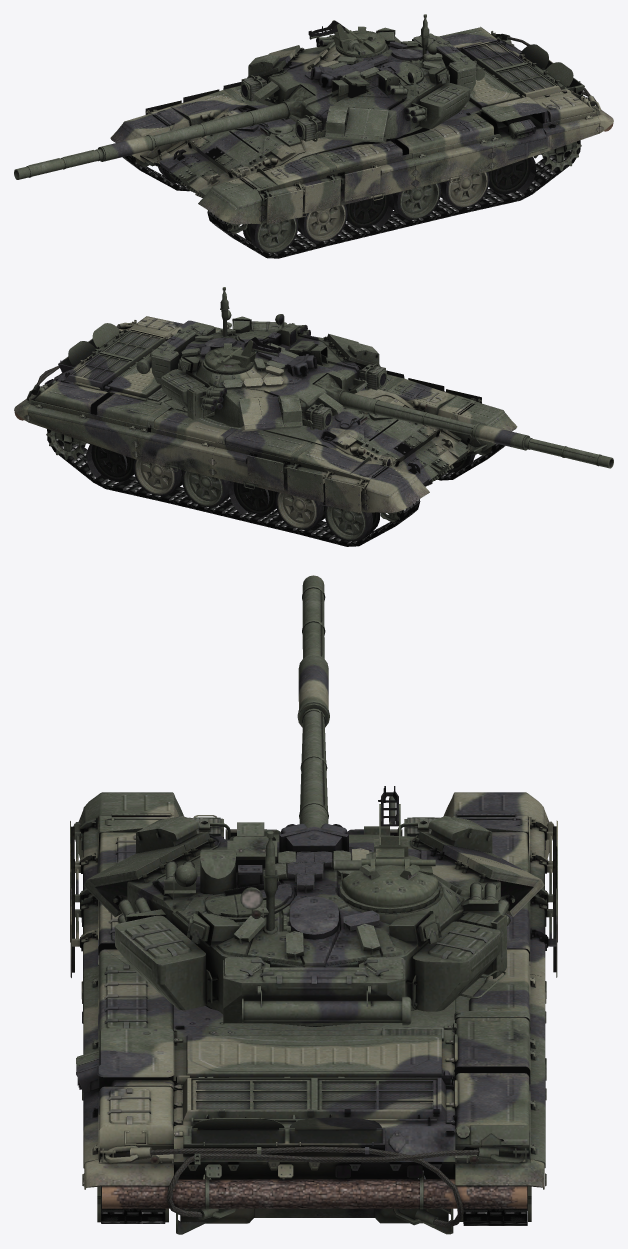
The picture shows the model from 3 angles, top to bottom: view 1: azimuth 30°, elevation 25°; view 2: azimuth 150°, elevation 25°; view 3: azimuth 270°, elevation 25°; orthographic projection. The views are drawn at different scales.
Visible parts, largest first — view 1: Hull, Turret Armor, Left Tracks, Barrel, Left RoadWheel_1, Left RoadWheel_2, Left RoadWheel_5, Left RoadWheel_4, Left RoadWheel_6, Left RoadWheel_3, Left Sprocket, Turret Mantlet (+2 smaller); view 2: Hull, Turret Armor, Right Tracks, Barrel, Right RoadWheel_1, Right RoadWheel_2, Right RoadWheel_5, Right RoadWheel_4, Right RoadWheel_6, Right RoadWheel_3, Right Sprocket, Left Tracks (+1 smaller); view 3: Hull, Turret Armor, Barrel, Spent Shell Exit Door, Right Tracks, Left Tracks.
Part boxes in pixels (x1,y1,x2,y2): Hull: (110, 26, 613, 224); Turret Armor: (240, 14, 485, 142); Left Tracks: (207, 140, 580, 258); Barrel: (14, 102, 288, 179); Left RoadWheel_1: (243, 201, 298, 253); Left RoadWheel_2: (297, 204, 347, 242); Left RoadWheel_5: (439, 171, 489, 208); Left RoadWheel_4: (392, 183, 440, 220); Left RoadWheel_6: (488, 145, 536, 197); Left RoadWheel_3: (345, 194, 394, 231); Left Sprocket: (533, 141, 581, 171); Turret Mantlet: (281, 85, 314, 119); Hull: (14, 316, 517, 513); Turret Armor: (136, 287, 386, 431); Right Tracks: (47, 429, 420, 546); Barrel: (339, 391, 613, 468); Right RoadWheel_1: (324, 490, 380, 541); Right RoadWheel_2: (275, 492, 325, 530); Right RoadWheel_5: (133, 459, 183, 496); Right RoadWheel_4: (182, 470, 230, 507); Right RoadWheel_6: (86, 444, 136, 485); Right RoadWheel_3: (228, 481, 277, 518); Right Sprocket: (46, 430, 90, 459); Left Tracks: (438, 443, 505, 480); Hull: (70, 792, 557, 1234); Turret Armor: (83, 786, 544, 1026); Barrel: (297, 575, 329, 827); Spent Shell Exit Door: (282, 896, 339, 939); Right Tracks: (463, 820, 528, 1225); Left Tracks: (101, 1186, 165, 1223).
Size of the model in its own units: 19220 by 5635 by 7438.
